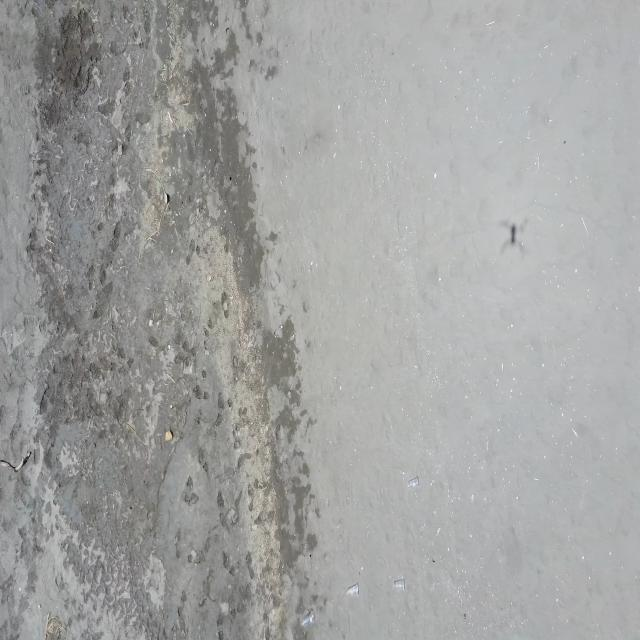takeaway-cup: (346, 583, 362, 599), (302, 609, 316, 627), (406, 474, 420, 490), (392, 576, 407, 590)
